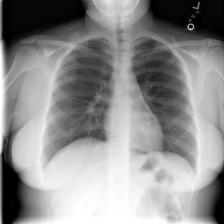normal: (38, 28, 203, 218)
